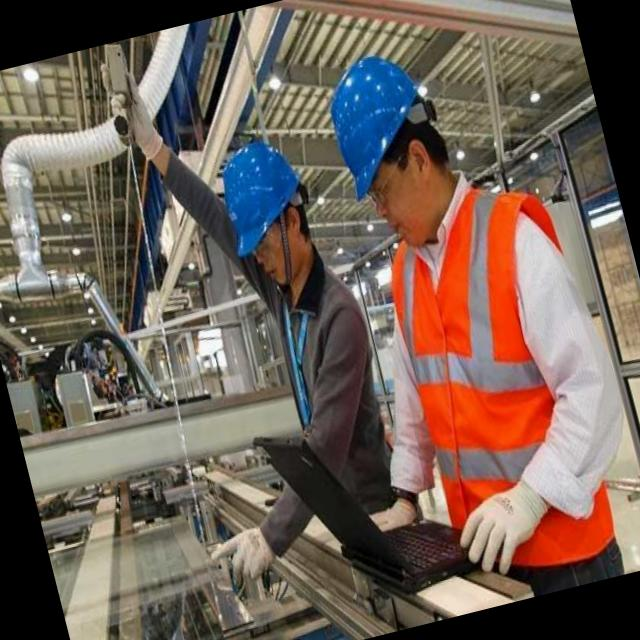helmet: (313, 43, 456, 207), (200, 126, 322, 266)
no-vest: (261, 248, 394, 464)
vest: (366, 170, 614, 580)
